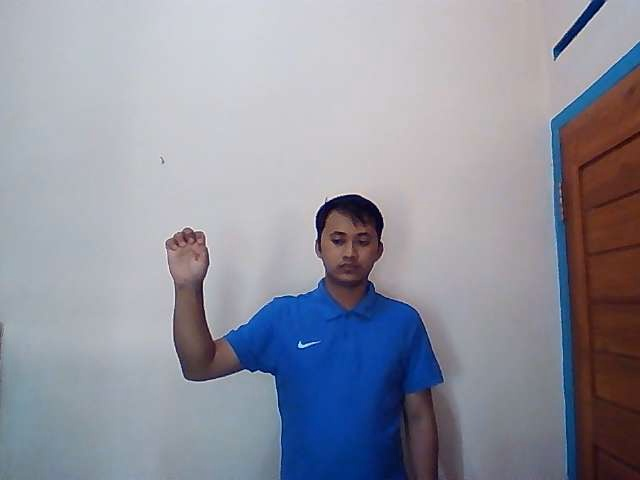E: (165, 227, 211, 288)
